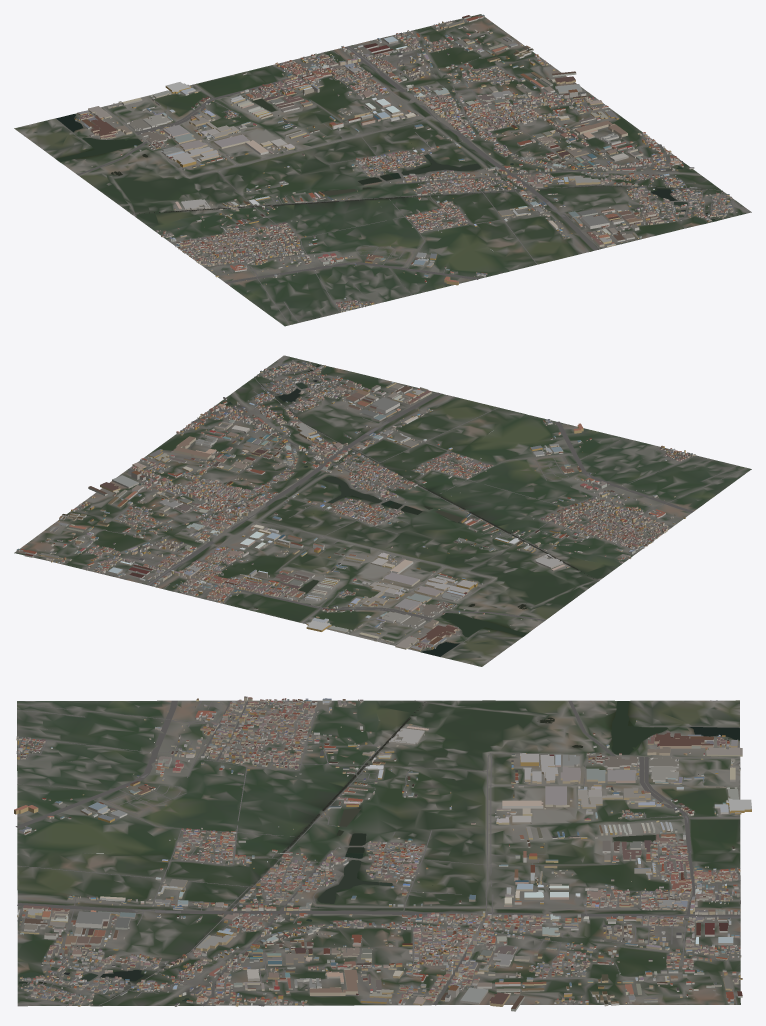
3 views of the same model, one above another, from view 1: azimuth 30°, elevation 25°; view 2: azimuth 150°, elevation 25°; view 3: azimuth 270°, elevation 25° (orthographic). The views are drawn at different scales.
Visible parts, largest first — view 1: ground, buildings, roads, water; view 2: ground, buildings, roads, water; view 3: ground, buildings, roads, water.
Part boxes in pixels (x1=…): ground: x1=14, y1=14, x2=751, y2=326; buildings: x1=74, y1=14, x2=737, y2=312; roads: x1=23, y1=15, x2=749, y2=325; water: x1=56, y1=98, x2=722, y2=223; ground: x1=14, y1=355, x2=751, y2=666; buildings: x1=16, y1=359, x2=695, y2=651; roads: x1=16, y1=355, x2=746, y2=660; water: x1=226, y1=364, x2=593, y2=656; ground: x1=17, y1=700, x2=740, y2=1006; buildings: x1=14, y1=696, x2=751, y2=1011; roads: x1=15, y1=700, x2=740, y2=1006; water: x1=18, y1=701, x2=739, y2=1006.
Size of the model in its own units: 2863 by 37.93 by 2862.
